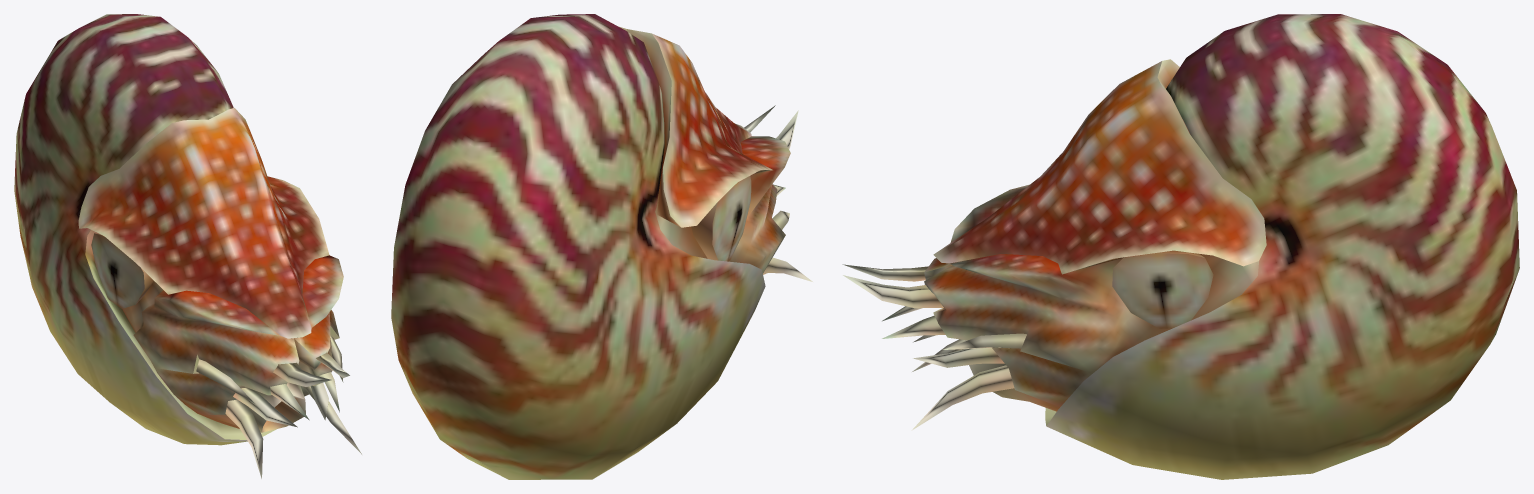
Rendered from chambered-nautilus.glb.
3 views of the same model, side by side, from view 1: azimuth 30°, elevation 25°; view 2: azimuth 150°, elevation 25°; view 3: azimuth 270°, elevation 25° (orthographic). The views are drawn at different scales.
Size of the model in its own units: 2.24 by 4.09 by 5.63.
1 material, 1 textured.
